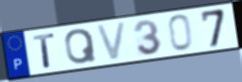0: (166, 13, 196, 53)
3: (132, 18, 164, 57)
7: (200, 8, 227, 49)
Q: (63, 28, 98, 66)
T: (32, 32, 57, 69)
V: (94, 20, 129, 63)
